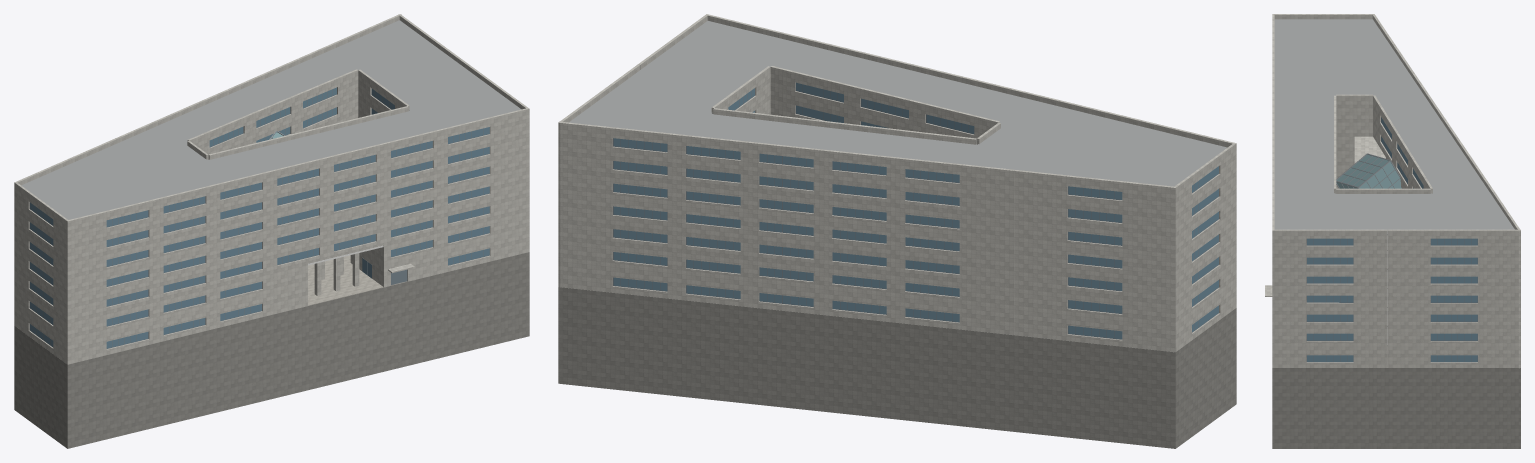
3 views of the same model, side by side, from view 1: azimuth 30°, elevation 25°; view 2: azimuth 150°, elevation 25°; view 3: azimuth 270°, elevation 25° (orthographic). The views are drawn at different scales.
Parts seen in each view (by area): view 1: aiHall__stone, aiHall__darkstone, aiHall__roof, aiHall__glass, aiHall__frame, aiHall__paving; view 2: aiHall__stone, aiHall__darkstone, aiHall__roof, aiHall__glass, aiHall__frame; view 3: aiHall__stone, aiHall__roof, aiHall__darkstone, aiHall__glass, aiHall__frame, aiHall__glass_cube.
Boxes of the visible parts, left/top/right/bottom form: aiHall__stone: left=14, top=14, right=529, bottom=364; aiHall__darkstone: left=14, top=252, right=529, bottom=448; aiHall__roof: left=21, top=20, right=521, bottom=219; aiHall__glass: left=30, top=87, right=489, bottom=348; aiHall__frame: left=29, top=89, right=489, bottom=348; aiHall__paving: left=308, top=255, right=383, bottom=305; aiHall__stone: left=558, top=14, right=1236, bottom=352; aiHall__darkstone: left=558, top=287, right=1236, bottom=448; aiHall__roof: left=569, top=21, right=1227, bottom=186; aiHall__glass: left=613, top=82, right=1218, bottom=339; aiHall__frame: left=613, top=83, right=1218, bottom=339; aiHall__stone: left=1265, top=14, right=1520, bottom=368; aiHall__roof: left=1274, top=19, right=1514, bottom=234; aiHall__darkstone: left=1272, top=346, right=1520, bottom=448; aiHall__glass: left=1307, top=117, right=1477, bottom=361; aiHall__frame: left=1306, top=117, right=1477, bottom=362; aiHall__glass_cube: left=1336, top=154, right=1401, bottom=188.
Size of the model in its own units: 97.63 by 45.9 by 48.72.
Materials: 10 (3 with a texture image).
